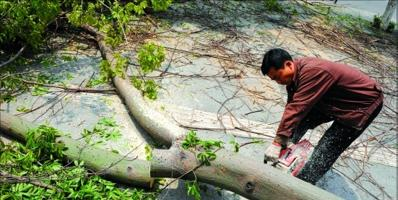person: (261, 48, 383, 186)
